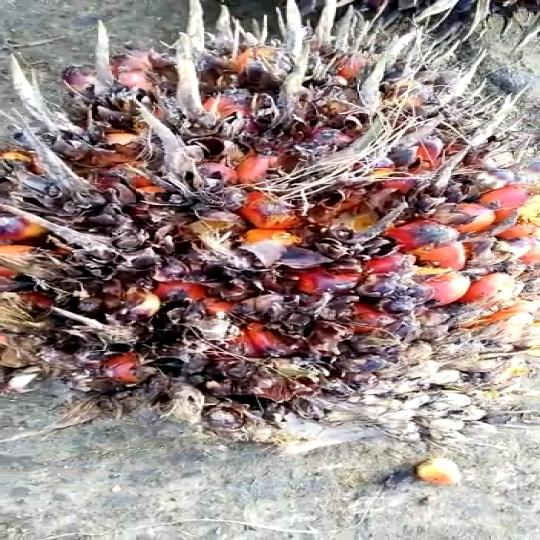terlalu masak: (0, 0, 540, 447)
